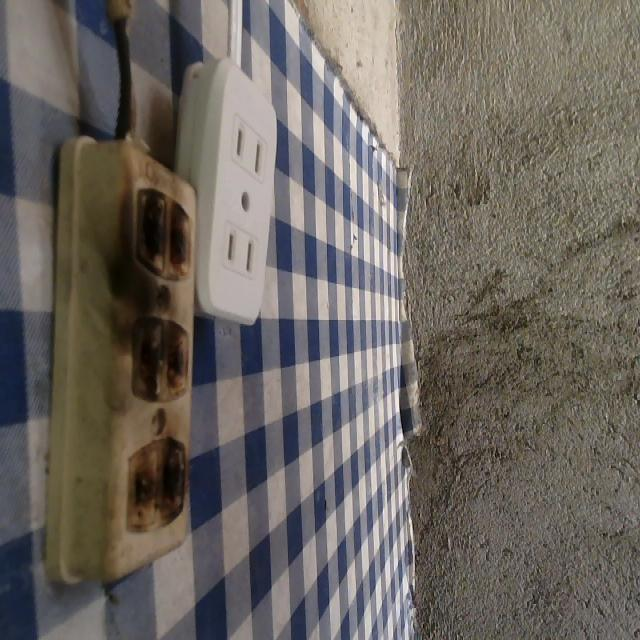-: (124, 184, 199, 285), (125, 435, 185, 536), (128, 316, 193, 405)
